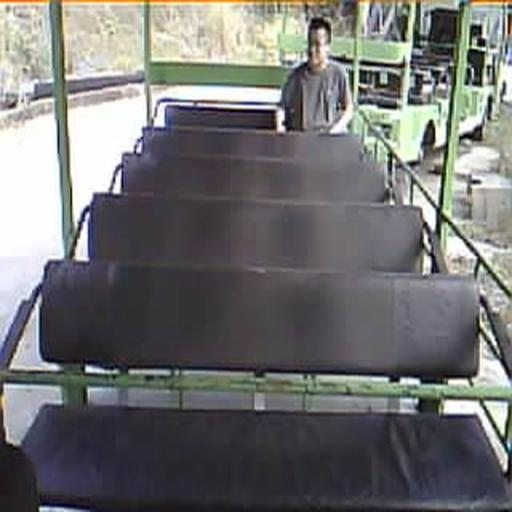persona: (279, 16, 354, 135)
